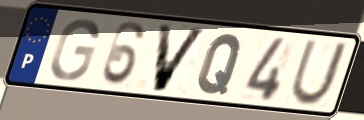4: (243, 35, 289, 103)
6: (99, 20, 148, 89)
G: (48, 17, 101, 83)
Q: (194, 32, 246, 97)
U: (287, 38, 351, 108)
V: (151, 22, 210, 95)
